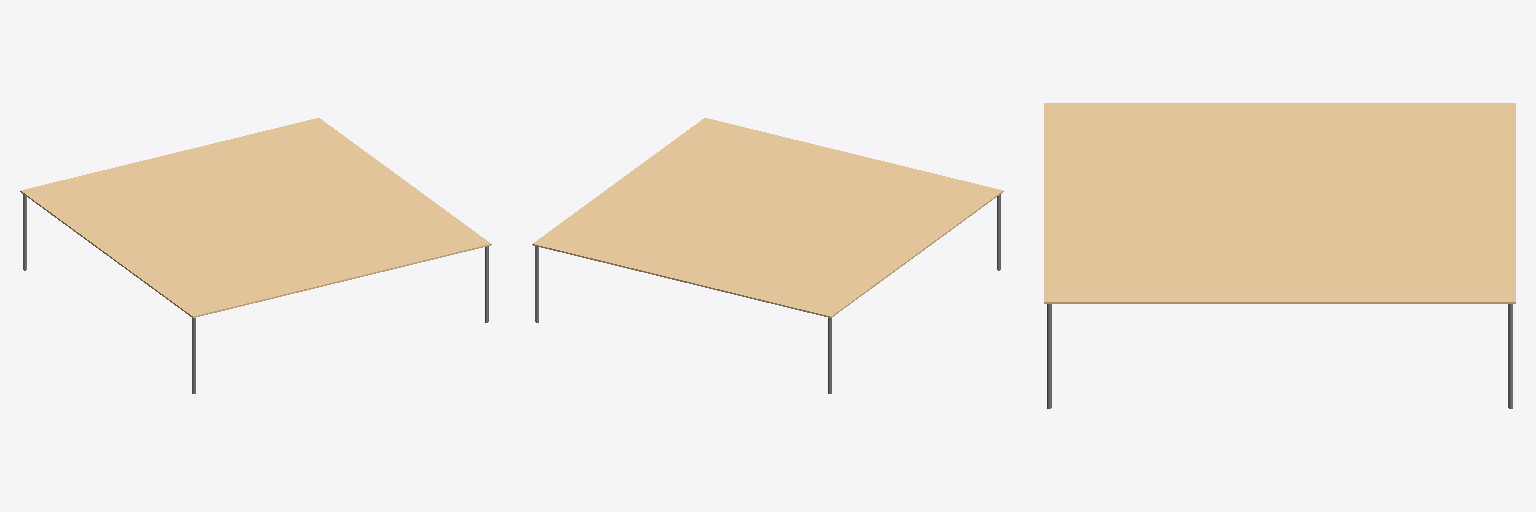
robot.urdf — box:
<?xml version="1.0" ?>
<robot name="box">

    <material name="panda_white">
        <color rgba="1. 0.87 0.68 1."/>
    </material>

    <material name="metal">
        <color rgba="0.6 0.6 0.6 1."/>
    </material>

    <material name="orangered">
        <color rgba="1 0.34 0.2 0.5"/>
    </material>


    <link name="link1">
        <inertial>
            <origin rpy="0 0 0" xyz="0 0 0"/>
            <mass value=".0"/>
            <inertia ixx="0" ixy="0" ixz="0" iyy="0" iyz="0" izz="0"/>
        </inertial>

        <visual>
            <origin rpy="0 0 0" xyz="0.0 0 0.25"/>
            <geometry>
                <box size="1.0 1.0 0.005"/>
            </geometry>
            <material name="panda_white"/>
        </visual>
    </link>

    <link name="link2">
        <inertial>
            <origin rpy="0 0 0" xyz="0 0 0"/>
            <mass value=".0"/>
            <inertia ixx="0" ixy="0" ixz="0" iyy="0" iyz="0" izz="0"/>
        </inertial>

        <visual>
            <origin rpy="0 0 0" xyz="0.49 0.49 0.125"/>
            <geometry>
                <cylinder radius="0.005" length="0.25"/>
            </geometry>
            <material name="metal"/>
        </visual>

        <visual>
            <origin rpy="0 0 0" xyz="0.49 -0.49 0.125"/>
            <geometry>
                <cylinder radius="0.005" length="0.25"/>
            </geometry>
            <material name="metal"/>
        </visual>

        <visual>
            <origin rpy="0 0 0" xyz="-0.49 0.49 0.125"/>
            <geometry>
                <cylinder radius="0.005" length="0.25"/>
            </geometry>
            <material name="metal"/>
        </visual>

        <visual>
            <origin rpy="0 0 0" xyz="-0.49 -0.49 0.125"/>
            <geometry>
                <cylinder radius="0.005" length="0.25"/>
            </geometry>
            <material name="metal"/>
        </visual>

    </link>
    

    <joint name="fixed_joint" type="fixed">
        <parent link="link1"/>
        <child link="link2"/>
        <origin xyz="0 0 0" rpy="0 0 0"/>
    </joint>

</robot>

--- Render facts (derived) ---
The picture shows the robot from 3 angles, left to right: view 1: azimuth 30°, elevation 25°; view 2: azimuth 150°, elevation 25°; view 3: azimuth 270°, elevation 25°; orthographic projection.
Model box with 2 links and 1 joints (1 fixed), rooted at link1, posed every joint at zero.
Visible links, largest first — view 1: link1, link2; view 2: link1, link2; view 3: link1, link2.
Boxes of the visible links, box(x1,y1,x2,y2) form: link1: box(20, 118, 491, 317); link2: box(23, 194, 488, 393); link1: box(532, 118, 1003, 317); link2: box(535, 194, 1000, 393); link1: box(1044, 103, 1515, 303); link2: box(1047, 304, 1512, 408).
Bounding box of the posed robot: 1 × 1 × 0.2525 m (x, y, z).
Geometry: primitives only (box / cylinder / sphere), no mesh files.
